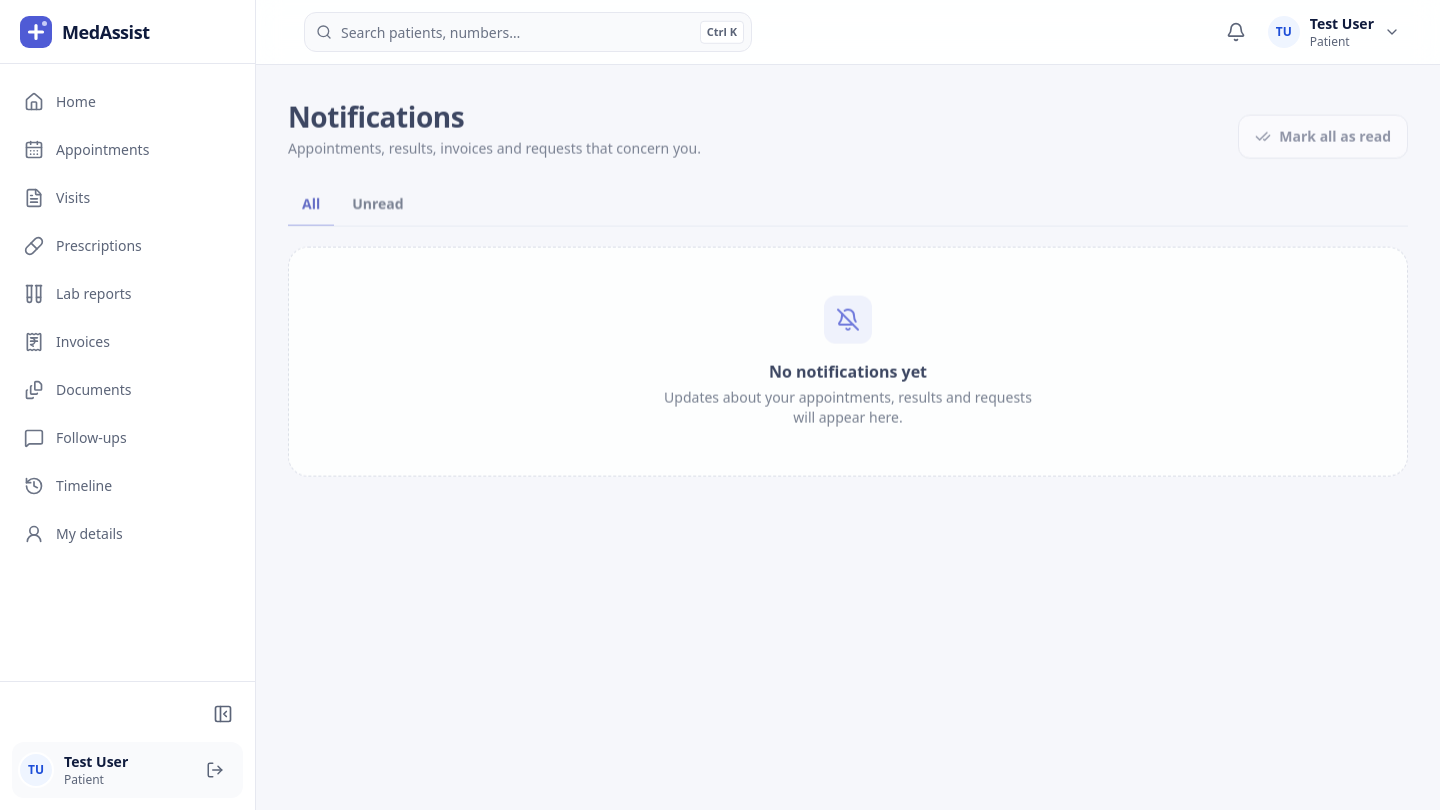
Scenario: /notifications › the Unread tab asks for unread ones only (tab and page in the URL)
Expected: the text "No notifications yet" is shown, [769,359,927,383]
Step 1. Click the tab "Unread" → (378, 204), box [338,182,418,226]
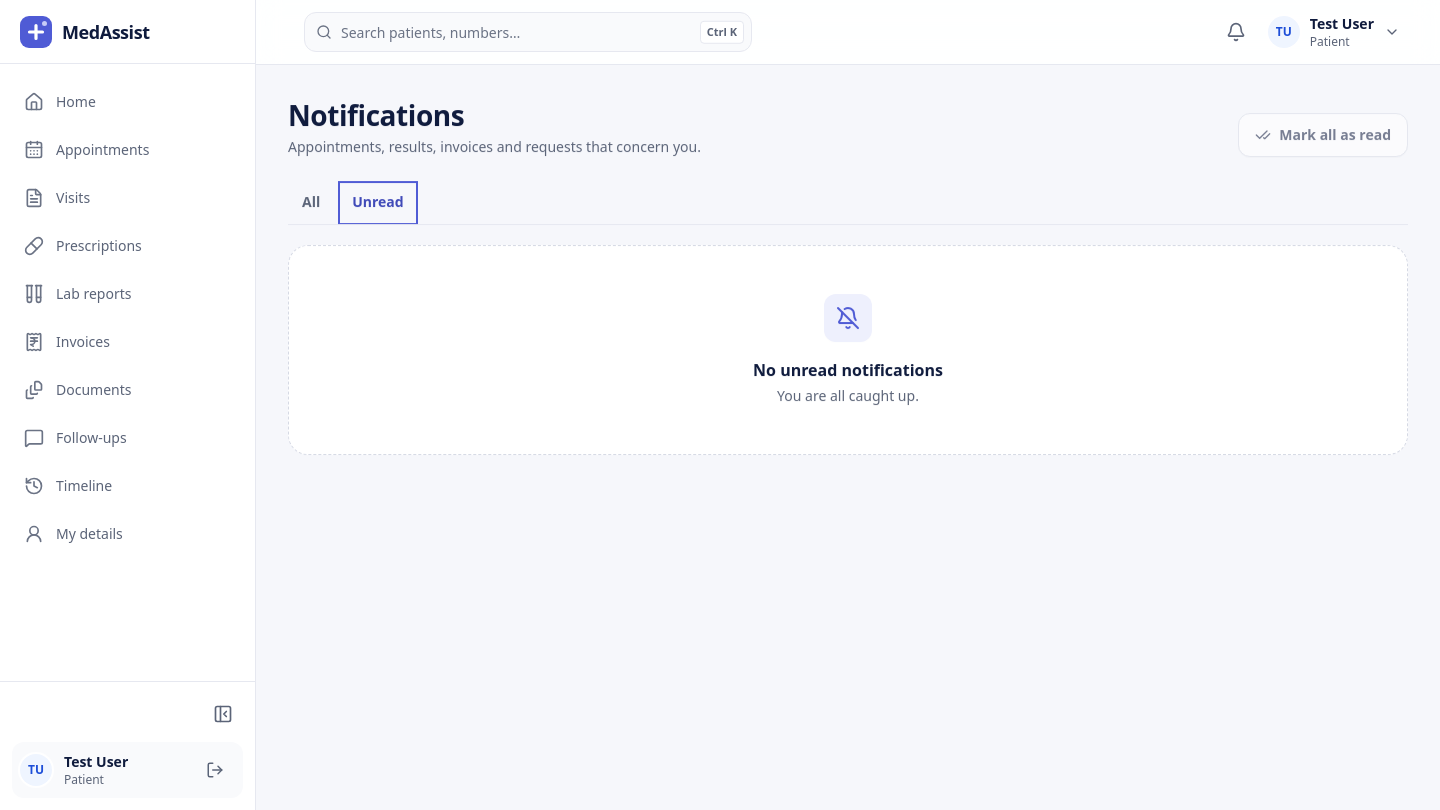
Expected: the text "No unread notifications" is shown, [753,358,943,382]
